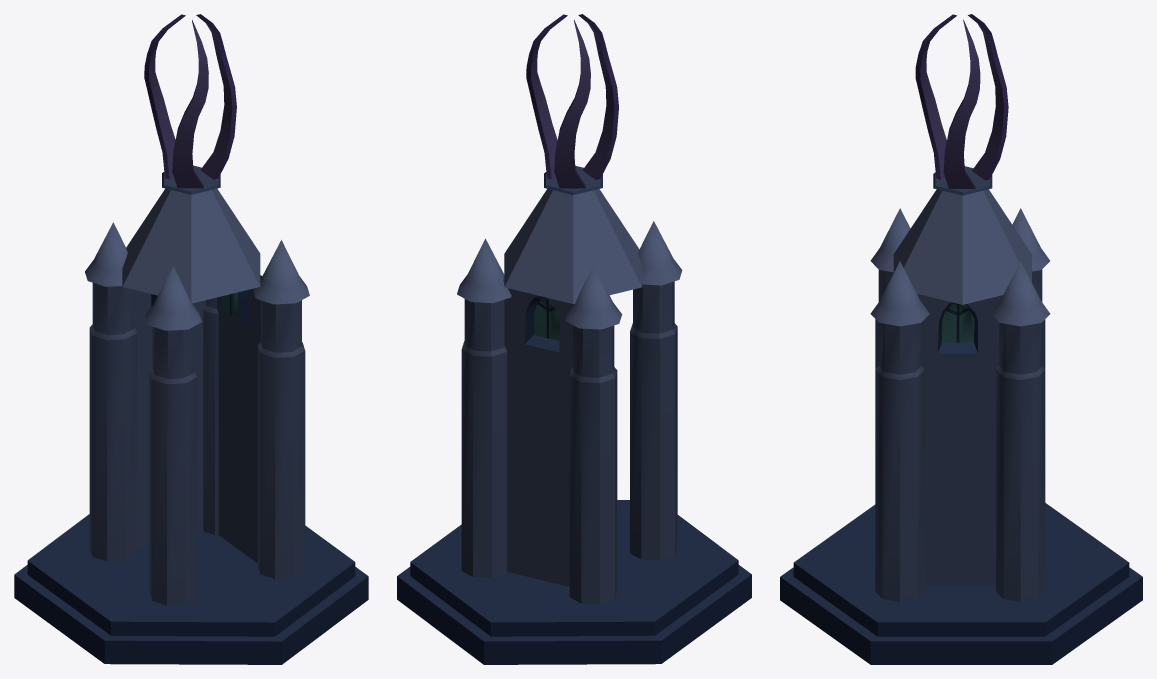
Rendered from tower1.fbx.
3 renders of one model, left to right at view 1: azimuth 30°, elevation 25°; view 2: azimuth 150°, elevation 25°; view 3: azimuth 270°, elevation 25°, orthographic.
Parts seen in each view (by area): view 1: polySurface266; view 2: polySurface266; view 3: polySurface266.
Boxes of the visible parts, x1=… form: polySurface266: x1=14, y1=14, x2=368, y2=664; polySurface266: x1=397, y1=14, x2=751, y2=664; polySurface266: x1=780, y1=14, x2=1142, y2=664.
Size of the model in its own units: 262 by 551 by 310.
